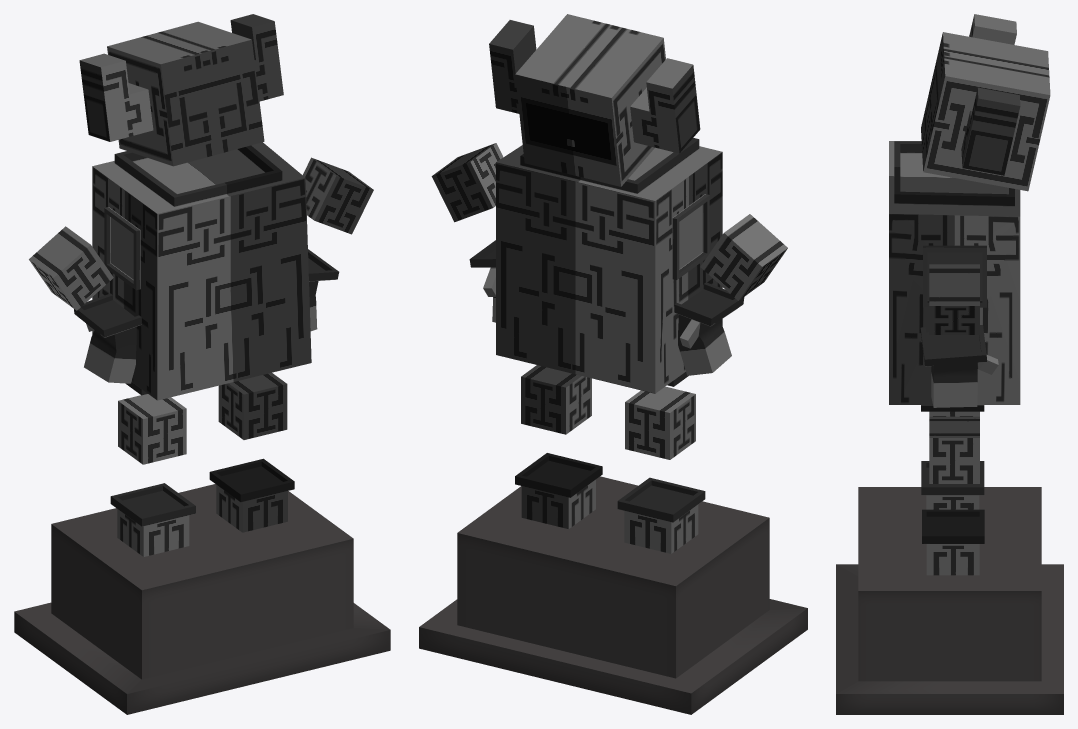
The model's file is SM_Box_Stat.fbx.
3 renders of one model, left to right at view 1: azimuth 30°, elevation 25°; view 2: azimuth 150°, elevation 25°; view 3: azimuth 270°, elevation 25°, orthographic. The views are drawn at different scales.
Visible parts, largest first — view 1: polySurface12, pasted__pCube14; view 2: polySurface12, pasted__pCube14; view 3: polySurface12, pasted__pCube14.
Part boxes in pixels (x1,y1,x2,y2): polySurface12: [29, 14, 373, 556]; pasted__pCube14: [14, 484, 390, 714]; polySurface12: [431, 14, 787, 553]; pasted__pCube14: [419, 476, 807, 714]; polySurface12: [889, 14, 1050, 575]; pasted__pCube14: [836, 487, 1063, 714].
Size of the model in its own units: 3.19 by 5.64 by 1.95.
2 materials, 2 textured.
